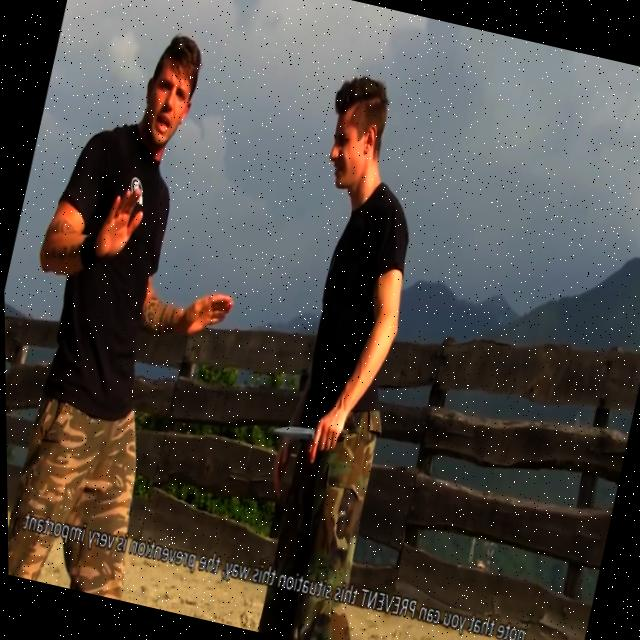knife: (269, 416, 313, 444)
